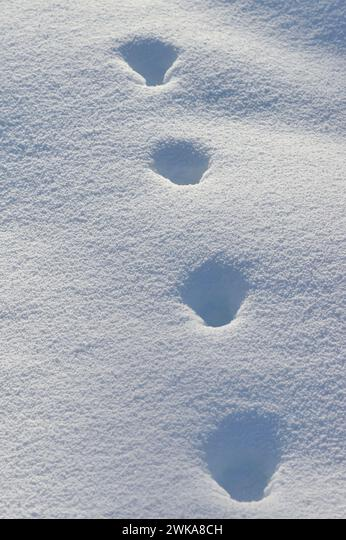fox: (188, 412, 294, 505), (179, 254, 250, 338)
